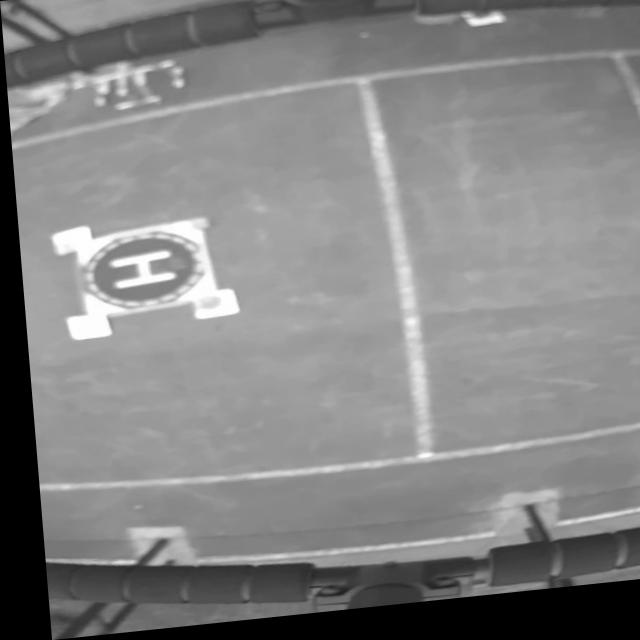Helipad: (106, 251, 172, 290)
